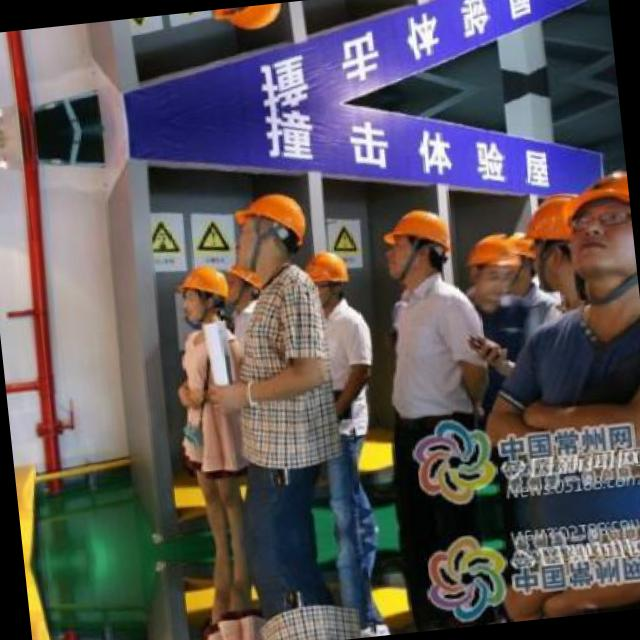helmet: (563, 162, 636, 299), (518, 187, 600, 291), (226, 188, 309, 271), (376, 204, 454, 284), (464, 228, 522, 304), (174, 261, 228, 324), (298, 246, 351, 304), (206, 2, 284, 36), (220, 256, 264, 311)
